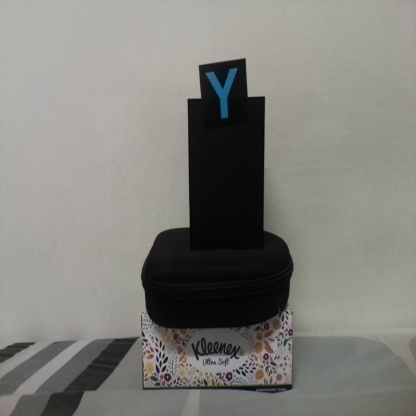id_14: (200, 64, 247, 125)
